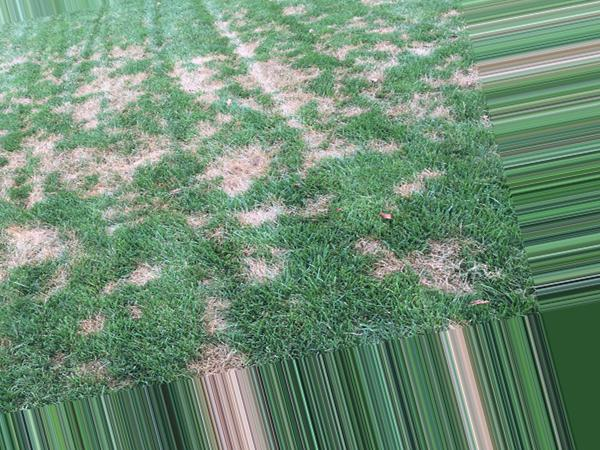patch: (373, 247, 451, 304), (30, 145, 115, 195), (207, 149, 262, 203), (251, 58, 306, 112), (195, 305, 240, 367), (71, 72, 134, 115), (301, 129, 377, 164), (175, 61, 226, 107), (19, 225, 65, 268), (334, 43, 392, 75), (111, 268, 159, 299), (404, 177, 438, 199)
